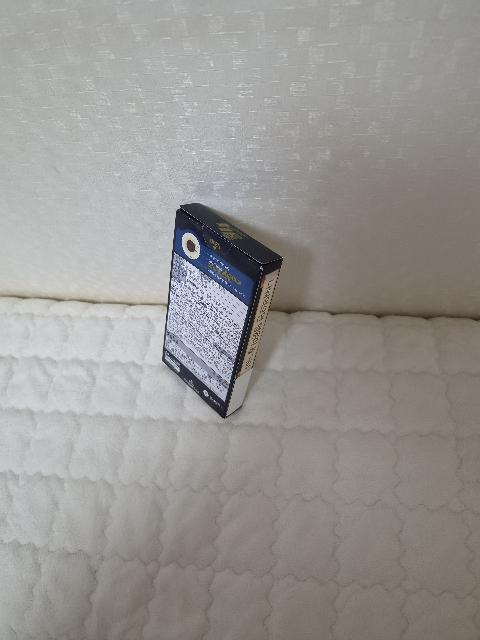pepero: (161, 204, 283, 419)
